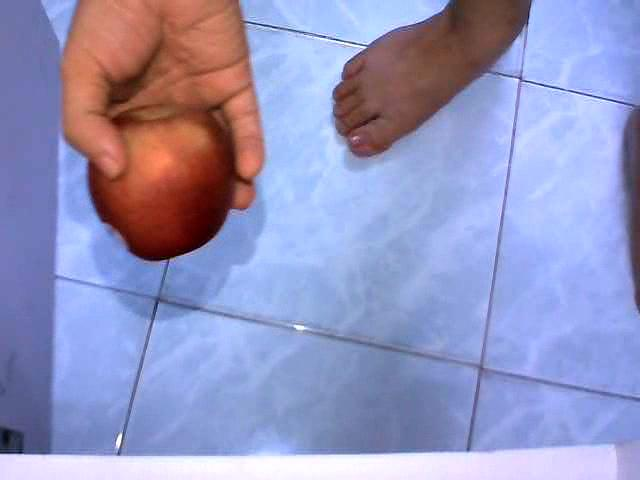apple: (87, 100, 238, 262)
